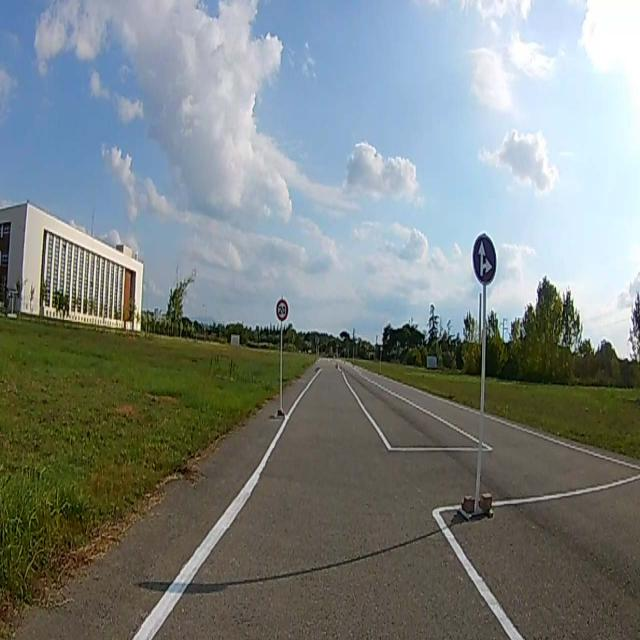20: (276, 299, 288, 321)
ilerisag: (474, 236, 496, 282)
